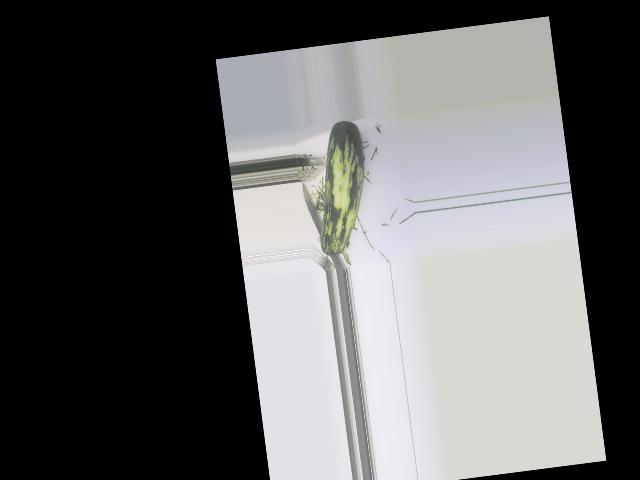cucumber: (305, 119, 376, 257)
